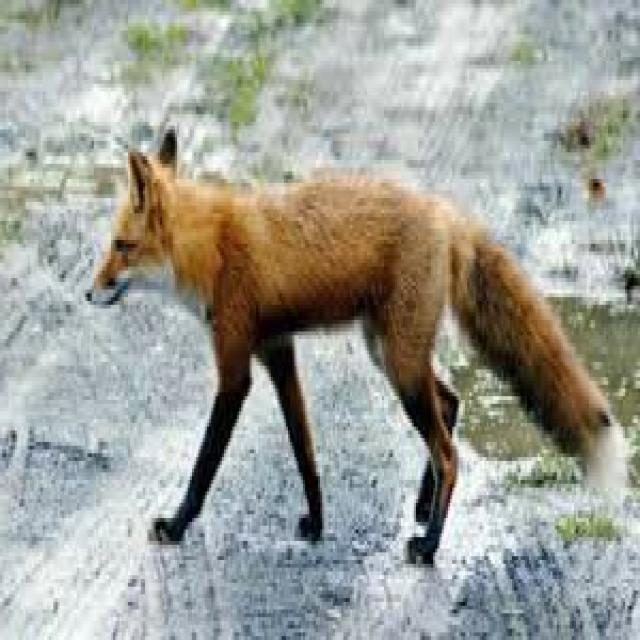fox: (87, 126, 614, 560)
